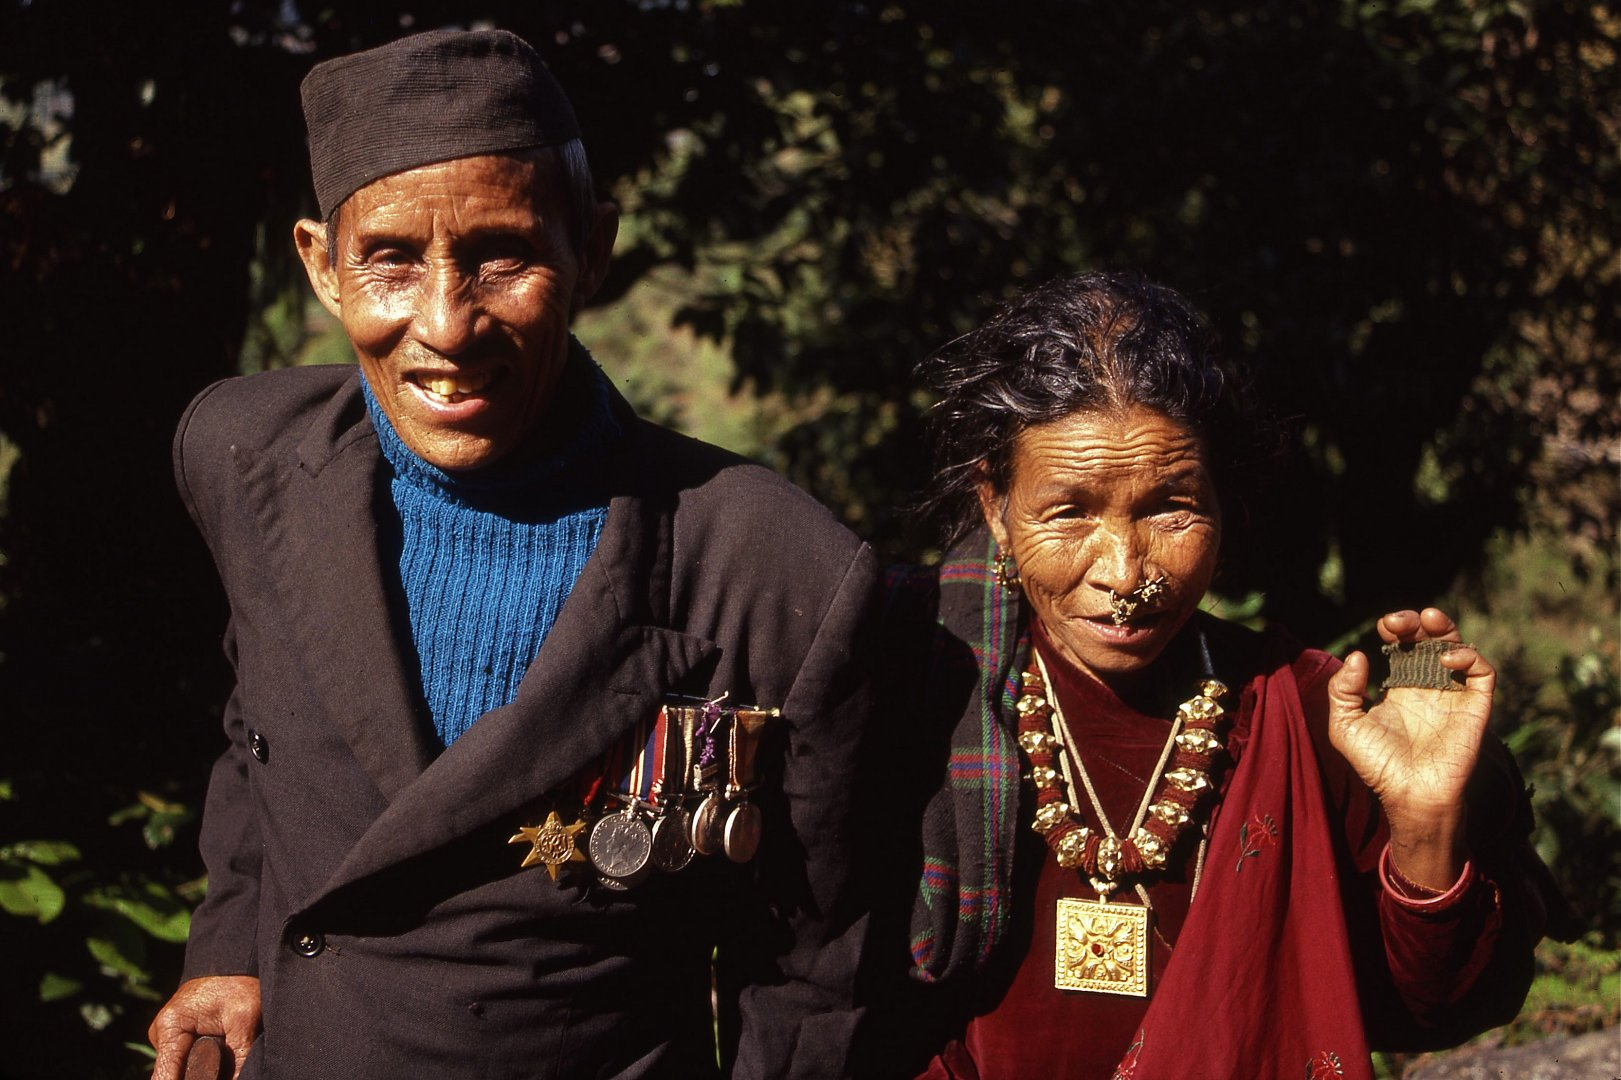human: (125, 21, 906, 1080), (875, 249, 1524, 1080)
